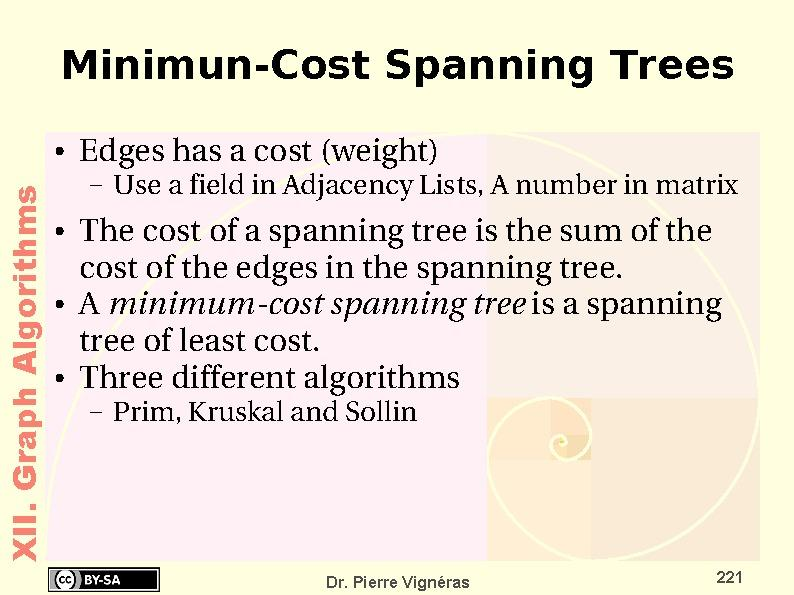paragraph: (48, 122, 768, 453)
title: (53, 34, 744, 98)
